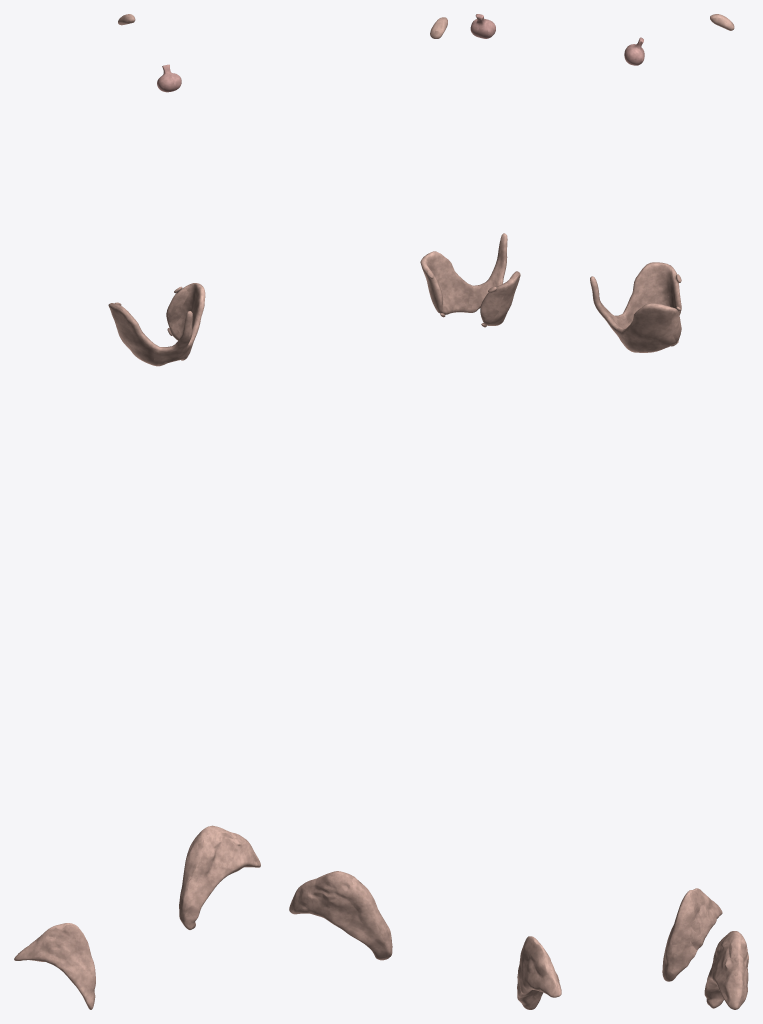
The model's file is endocrine.opt.glb.
3 renders of one model, left to right at view 1: azimuth 30°, elevation 25°; view 2: azimuth 150°, elevation 25°; view 3: azimuth 270°, elevation 25°, orthographic. The views are drawn at different scales.
Parts seen in each view (by area): view 1: suprarenal-gland-l, thyroid-gland, suprarenal-gland-r; view 2: suprarenal-gland-l, thyroid-gland, suprarenal-gland-r; view 3: thyroid-gland, suprarenal-gland-r, suprarenal-gland-l.
Part boxes in pixels (x1,y1,x2,y2): suprarenal-gland-l: (179,825,260,929); thyroid-gland: (108,283,205,366); suprarenal-gland-r: (14,923,95,1009); suprarenal-gland-l: (289,871,392,960); thyroid-gland: (420,233,520,325); suprarenal-gland-r: (517,936,561,1009); thyroid-gland: (590,262,681,352); suprarenal-gland-r: (662,888,722,981); suprarenal-gland-l: (704,931,748,1009).
Size of the model in its own units: 0.138 by 0.4994 by 0.072.
Materials: 2 (2 with a texture image).
